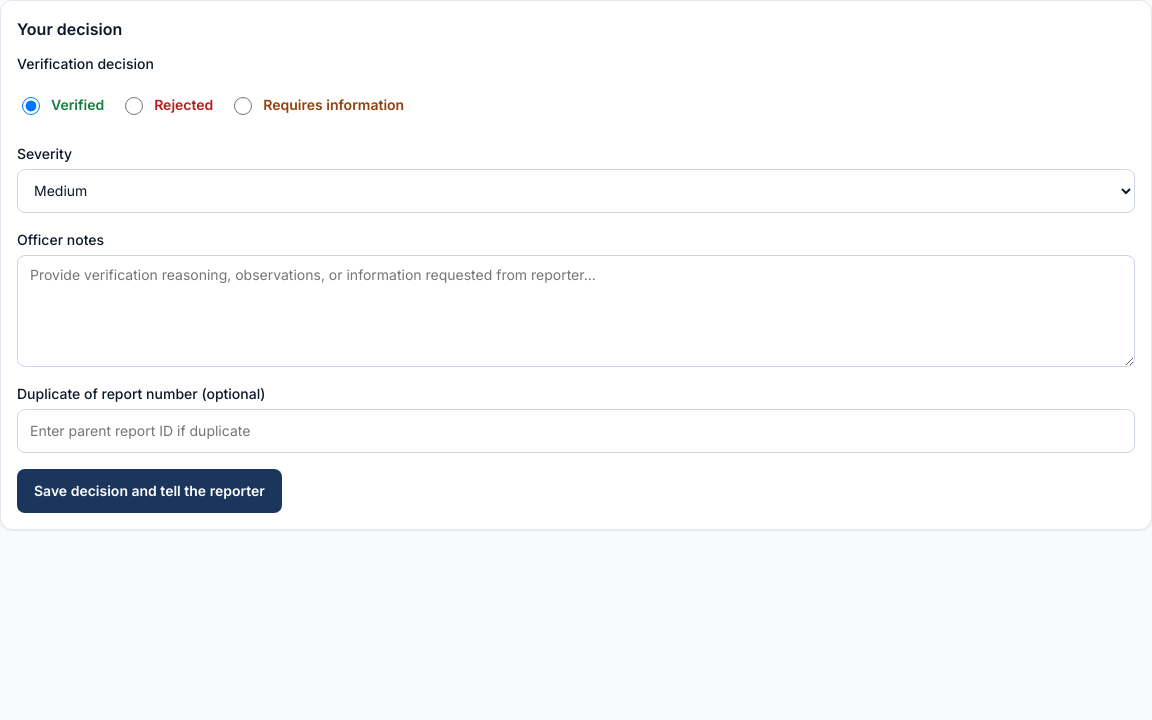
Test case: DecisionForm (step 6) › should require notes before Requires information
This screenshot has width=1152, height=720.
Click the radio button labelled "Requires information" at (243, 106), box x1=234 y1=98 x2=252 y2=116
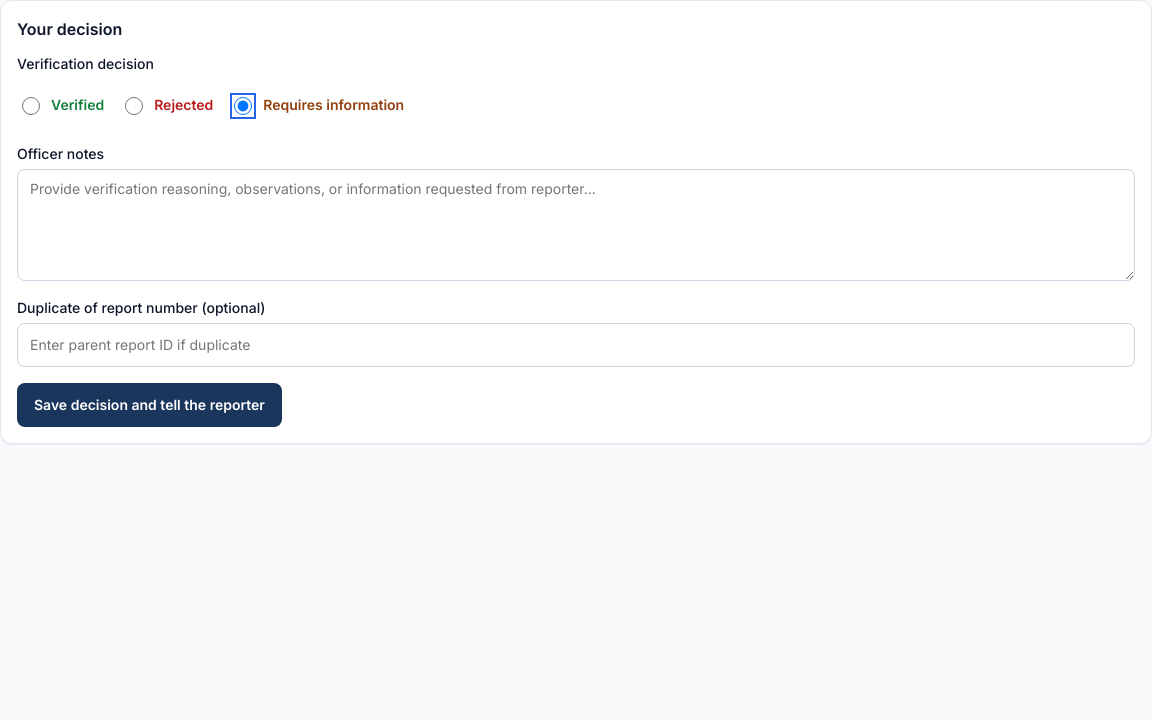
Expected: the label labelled "Severity" is gone
Click the button "Save decision and tell the reporter" at (149, 405), box x1=17 y1=383 x2=282 y2=427
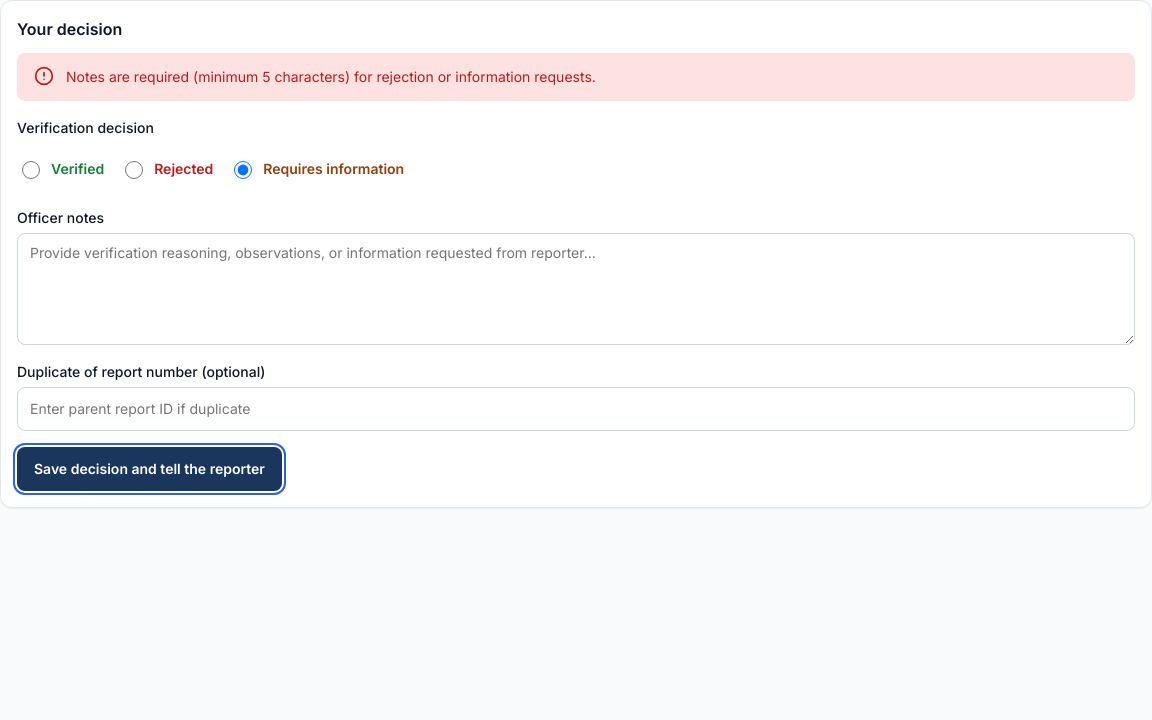
Expected: the message shows "Notes are required", x1=66 y1=68 x2=596 y2=85
